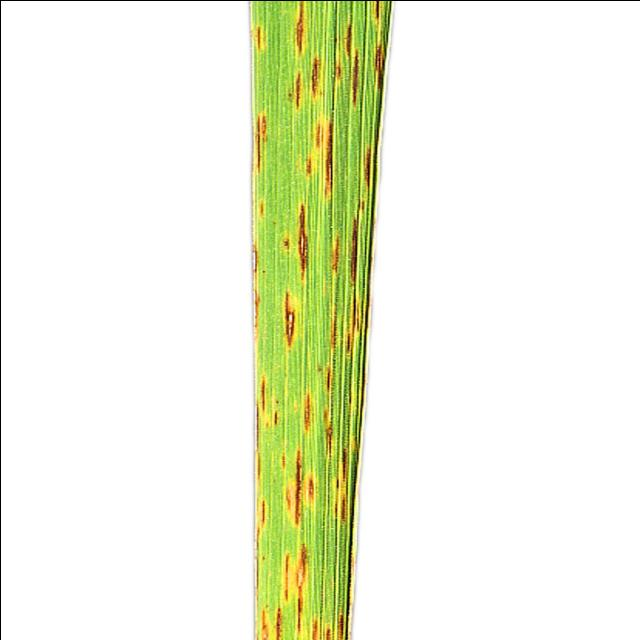Narrow brown: (231, 0, 406, 640)
